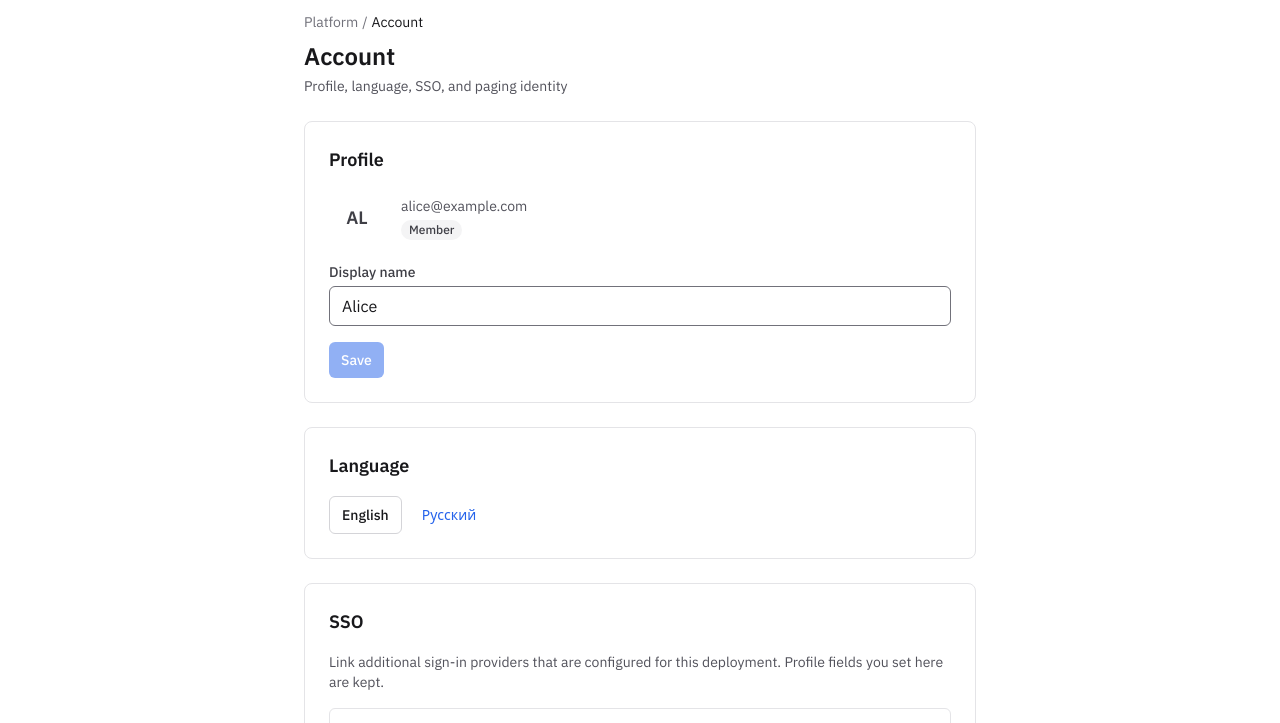
AccountPage › saves display name
Replace the text in the field labelled "Display name" with "Alice Updated": (640, 306) [329,286,951,326]
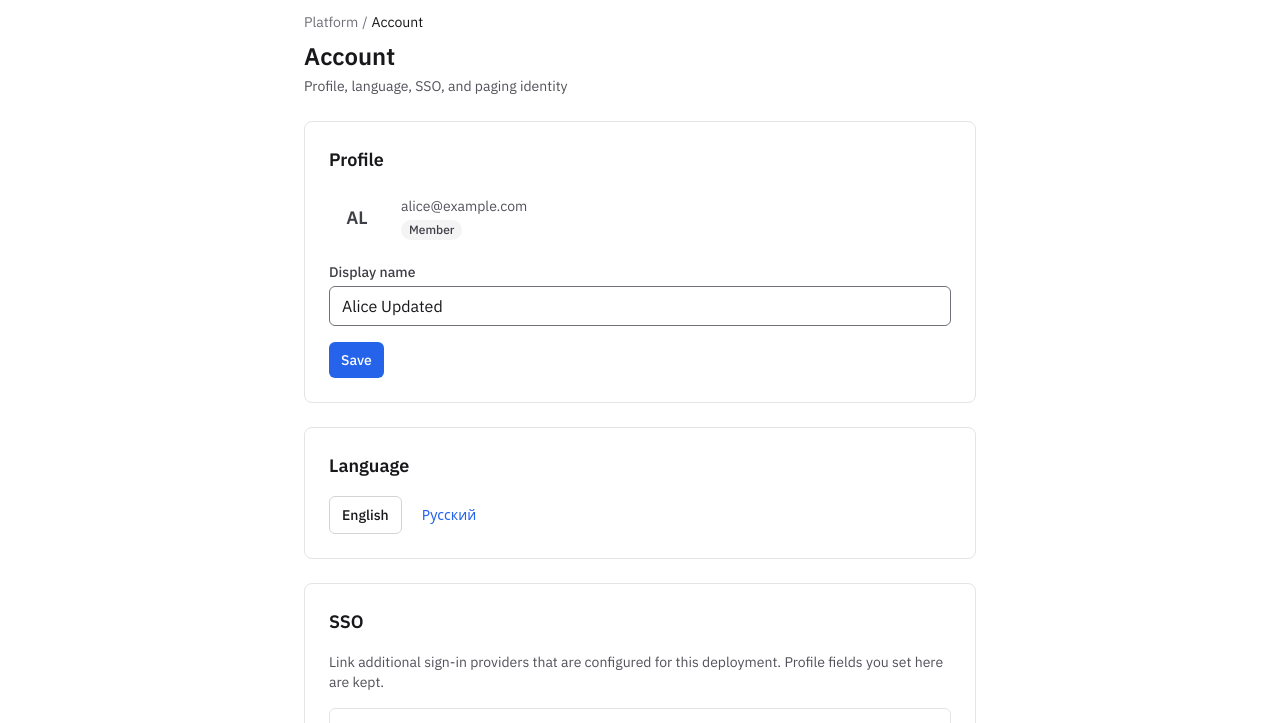
Click the button "Save": (356, 360) [329,342,384,378]
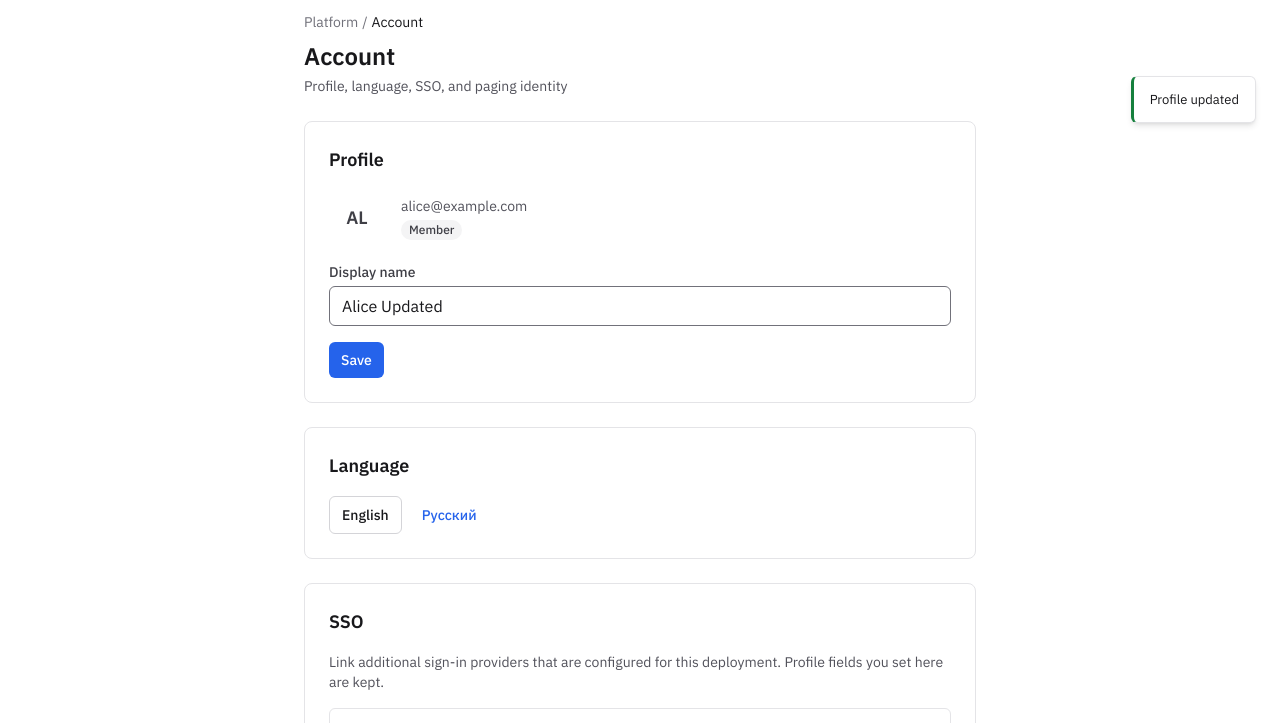
Expected: the text "Profile updated" is shown, [1131,76,1256,123]
